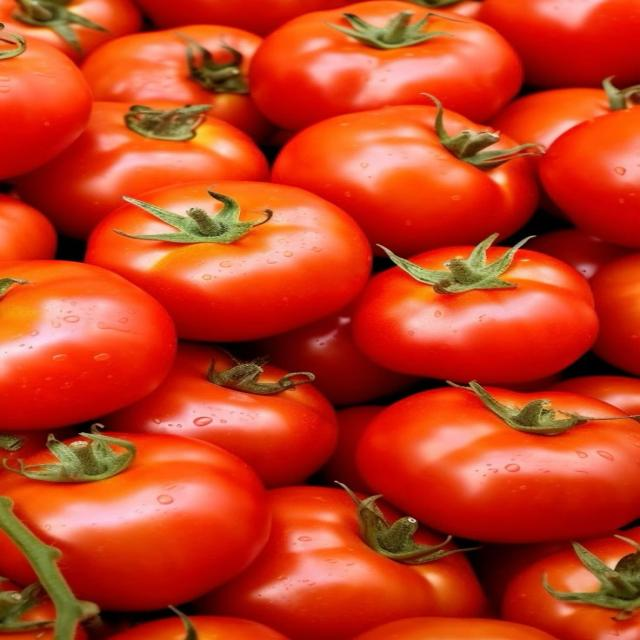tomato: (0, 433, 270, 611), (86, 182, 371, 342), (197, 486, 485, 639), (357, 387, 639, 543), (272, 105, 538, 256), (354, 239, 598, 385), (250, 0, 521, 131), (16, 102, 268, 238), (100, 343, 337, 486), (0, 261, 175, 432), (81, 24, 272, 139), (251, 305, 415, 406), (502, 527, 639, 639), (539, 107, 639, 248), (477, 0, 639, 87), (0, 31, 92, 179), (0, 0, 141, 63), (590, 224, 640, 376), (135, 0, 345, 35), (490, 87, 610, 147), (320, 405, 384, 494), (527, 228, 632, 278), (353, 617, 555, 639), (0, 194, 57, 261), (547, 375, 639, 415), (0, 581, 58, 639), (189, 616, 287, 639), (0, 431, 48, 463)
